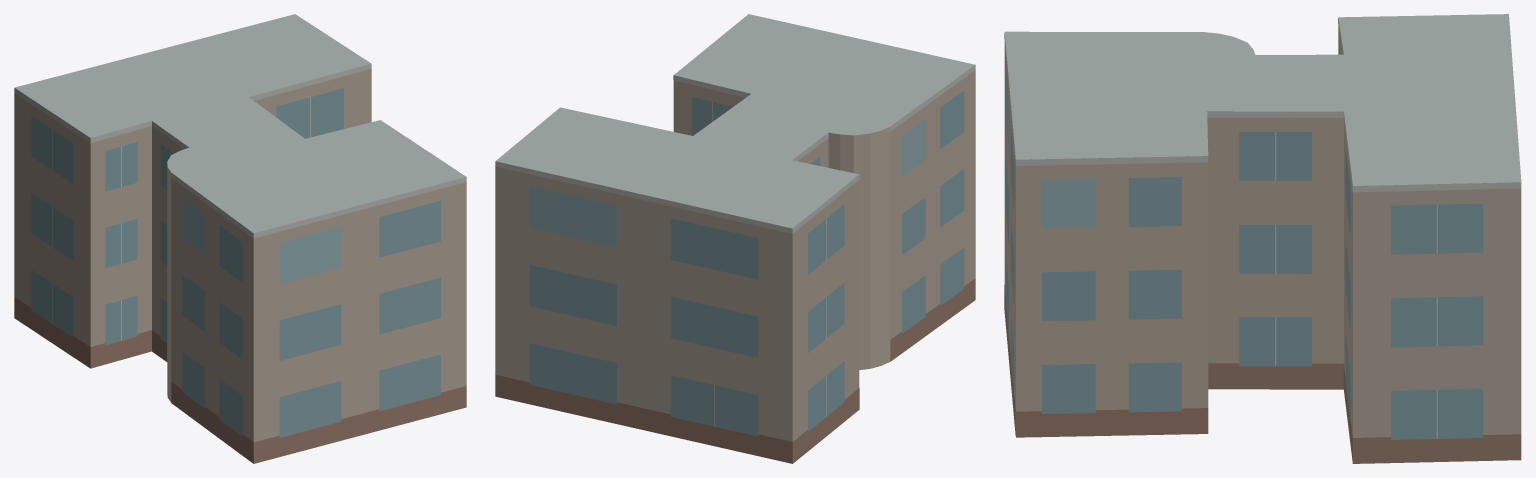
Rendered from survey-upis-33012944.glb.
3 views of the same model, side by side, from view 1: azimuth 30°, elevation 25°; view 2: azimuth 150°, elevation 25°; view 3: azimuth 270°, elevation 25° (orthographic). The views are drawn at different scales.
Visible parts, largest first — view 1: survey-upis-33012944.tmp; view 2: survey-upis-33012944.tmp; view 3: survey-upis-33012944.tmp.
Part boxes in pixels (box(x1,y1,x2,y2)): survey-upis-33012944.tmp: box(14, 14, 466, 463); survey-upis-33012944.tmp: box(495, 14, 975, 463); survey-upis-33012944.tmp: box(1004, 14, 1521, 463).
Bounding box in the file's own units: 14.48 × 10.9 × 18.39.
